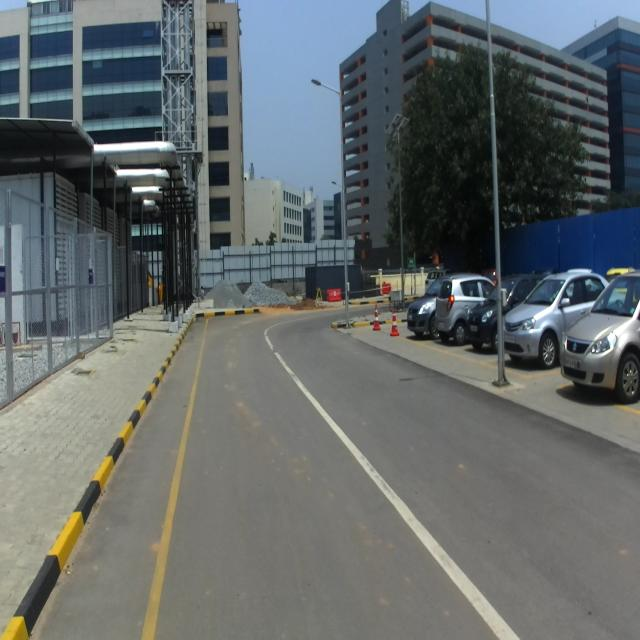car ahead at: (558, 273, 640, 405)
electric pole ahead at: (478, 0, 521, 396)
